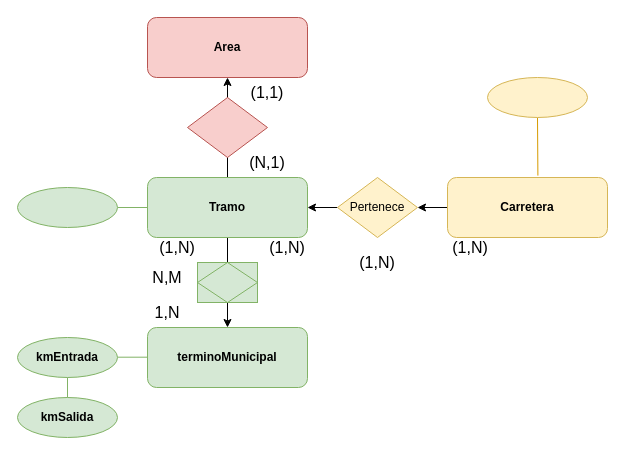
This 625x455 diagram has some shape labels left out. The box of each missing label's shape, as (x1, y1, x2, y2) in pixels:
Agrupa en: (186, 96, 268, 158)
longitud: (16, 186, 118, 228)
nombre: (486, 76, 588, 118)
Pasa por: (196, 262, 258, 302)
